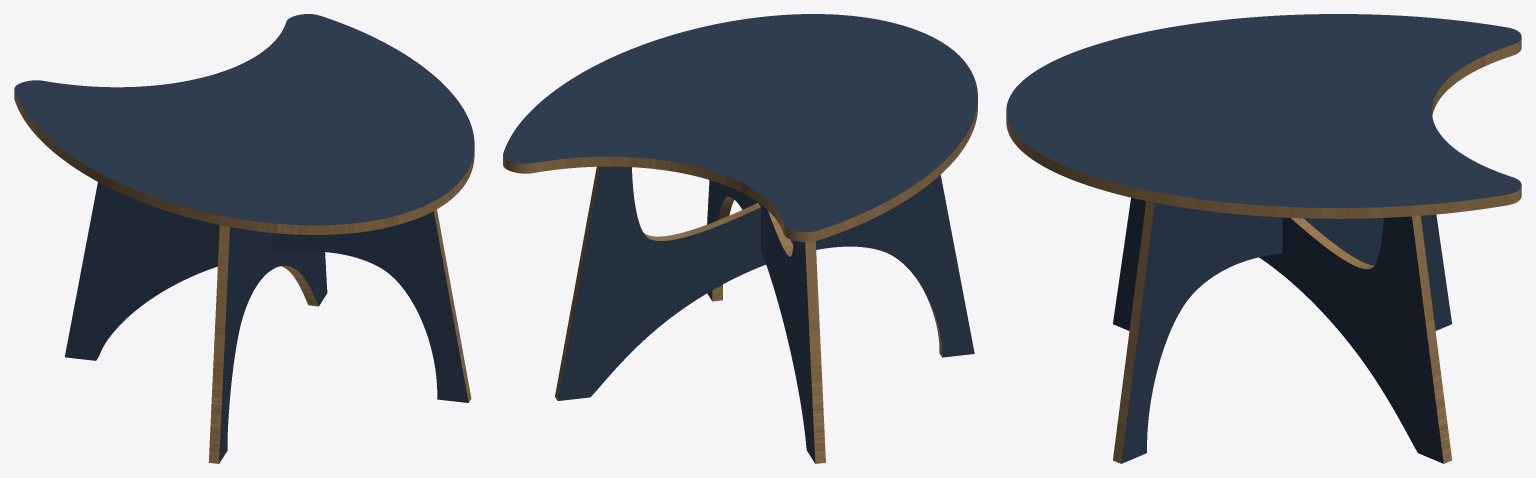
File: NODO_RATONA_CRUZ_CUARZO_V1.glb
3 renders of one model, left to right at view 1: azimuth 30°, elevation 25°; view 2: azimuth 150°, elevation 25°; view 3: azimuth 270°, elevation 25°, orthographic. The views are drawn at different scales.
Parts seen in each view (by area): view 1: Tapa, Lateral_2, Lateral_1; view 2: Tapa, Lateral_1, Lateral_2; view 3: Tapa, Lateral_1, Lateral_2.
Part boxes in pixels (x1=…): Tapa: x1=14, y1=14, x2=474, y2=234; Lateral_2: x1=65, y1=182, x2=471, y2=402; Lateral_1: x1=208, y1=225, x2=327, y2=463; Tapa: x1=503, y1=14, x2=977, y2=241; Lateral_1: x1=555, y1=166, x2=974, y2=400; Lateral_2: x1=707, y1=180, x2=825, y2=463; Tapa: x1=1006, y1=14, x2=1521, y2=218; Lateral_1: x1=1113, y1=197, x2=1451, y2=463; Lateral_2: x1=1113, y1=201, x2=1451, y2=463.
Bounding box in the file's own units: 0.6924 × 0.468 × 0.7771.
2 materials, 2 textured.
